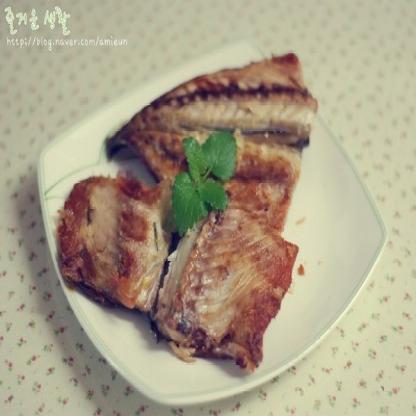Peixe: (44, 37, 336, 370)
